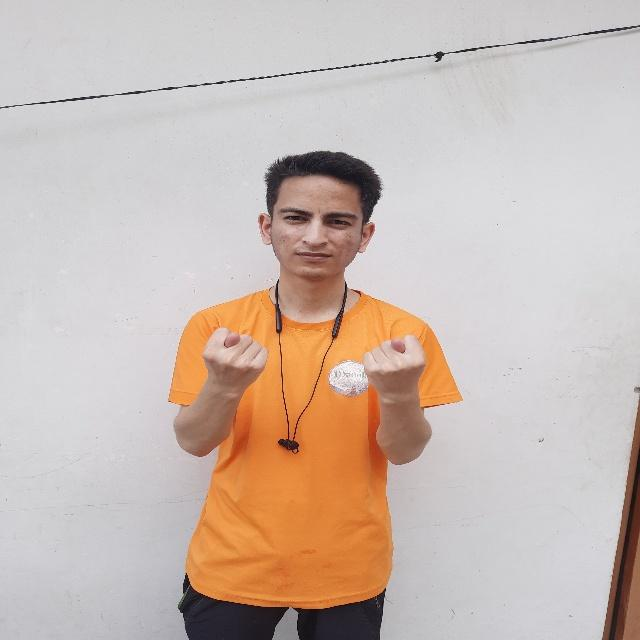Dulya: (198, 318, 272, 407), (360, 324, 434, 411)
